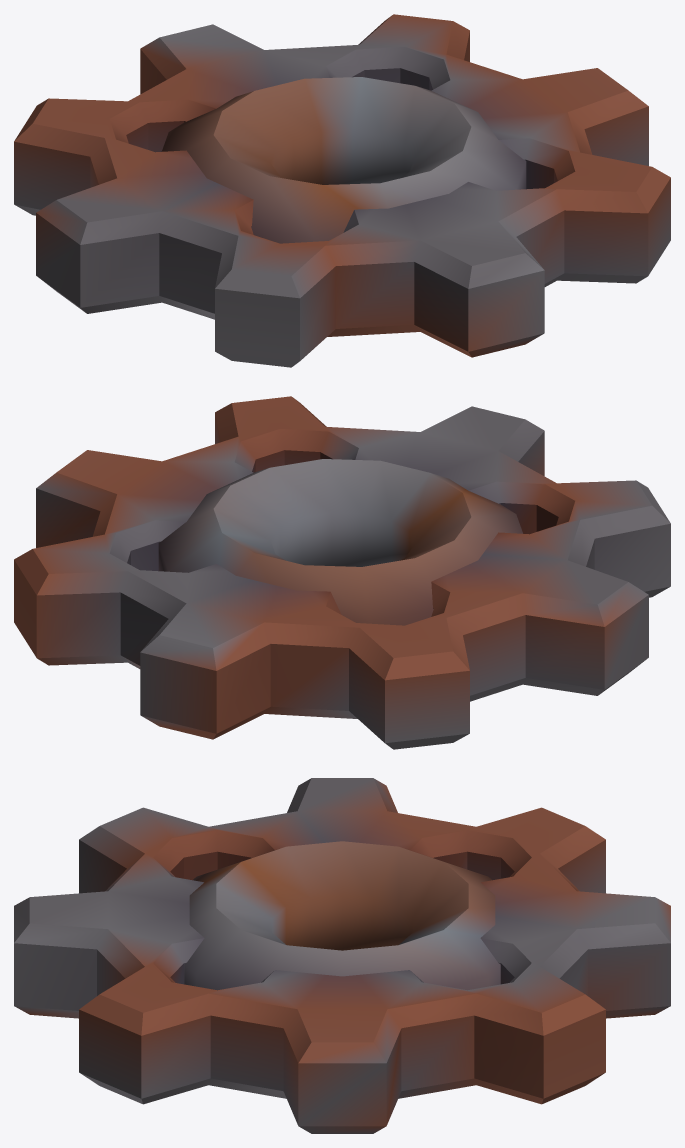
The model's file is gear.glb.
3 renders of one model, top to bottom at view 1: azimuth 30°, elevation 25°; view 2: azimuth 150°, elevation 25°; view 3: azimuth 270°, elevation 25°, orthographic.
Parts seen in each view (by area): view 1: gear; view 2: gear; view 3: gear.
Boxes of the visible parts, x1=… form: gear: x1=14, y1=14, x2=670, y2=367; gear: x1=14, y1=396, x2=670, y2=749; gear: x1=14, y1=778, x2=670, y2=1133.
Bounding box in the file's own units: 0.2081 × 0.042 × 0.2081.
